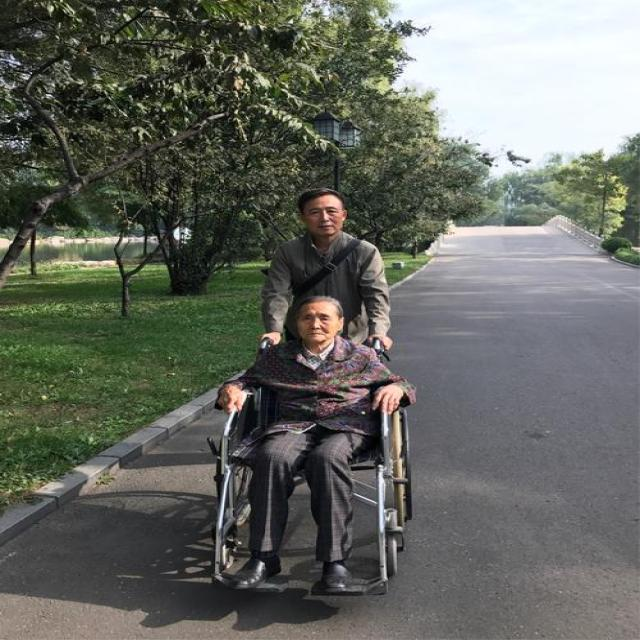wheelchairs: (184, 333, 436, 600)
